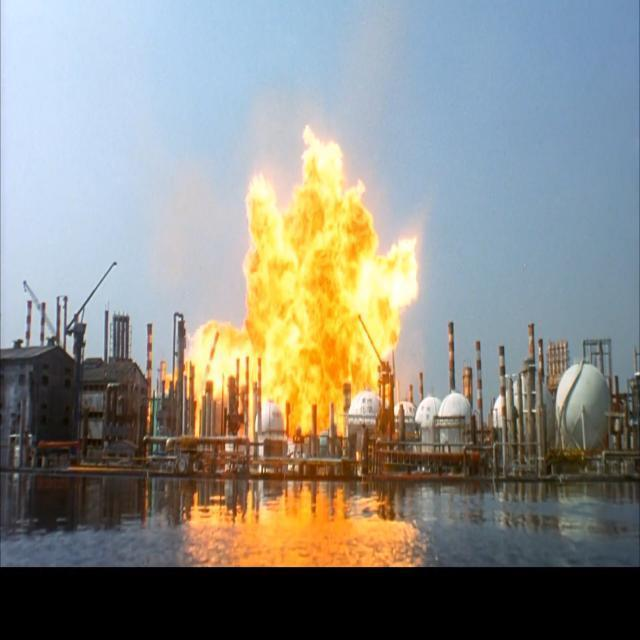fire: (158, 116, 428, 485)
